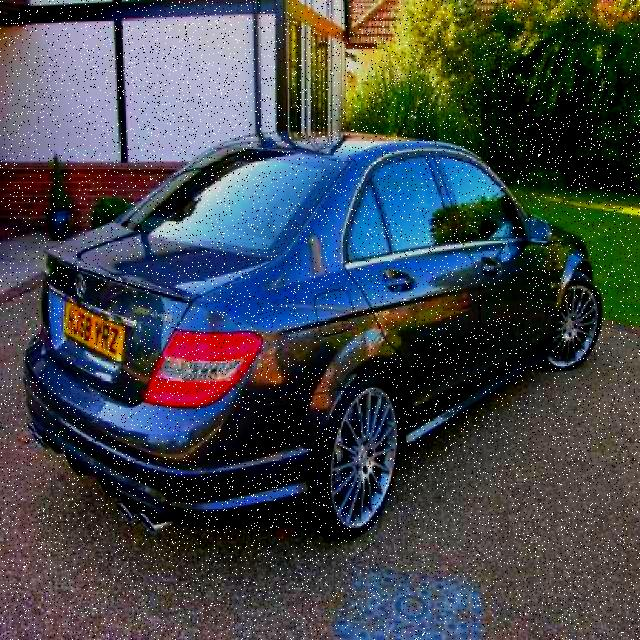license_plate: (63, 304, 126, 362)
